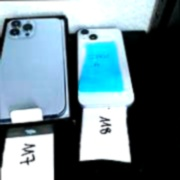iphone: (78, 28, 136, 108)
